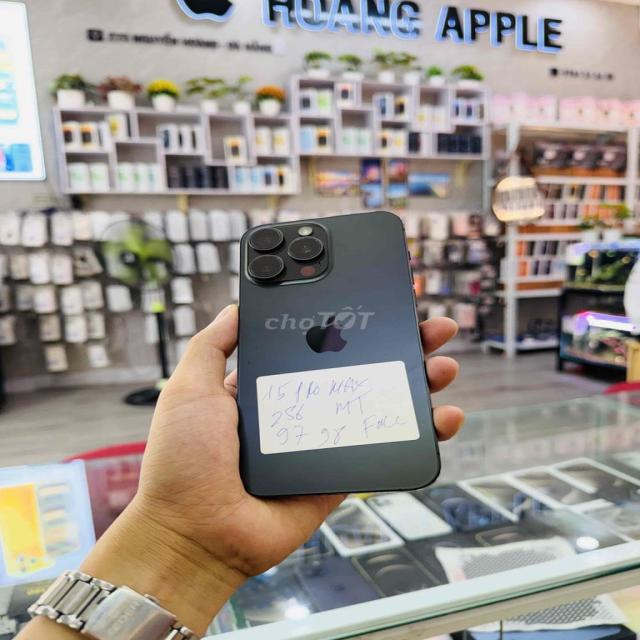gen_15: (205, 204, 459, 506)
